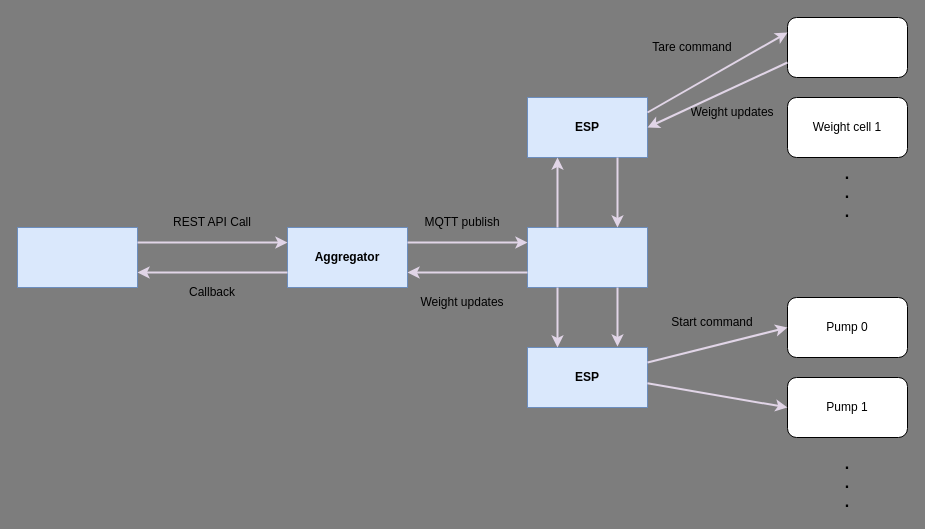
The diagram is 925 pixels wide and 529 high, and some of its shapes have lost their labels. The box of each missing label's shape, as (x1, y1, x2, y2) in pixels:
CPEE: (16, 226, 138, 288)
MQTT Broker: (526, 226, 648, 288)
Weight cell 0: (786, 16, 908, 78)
